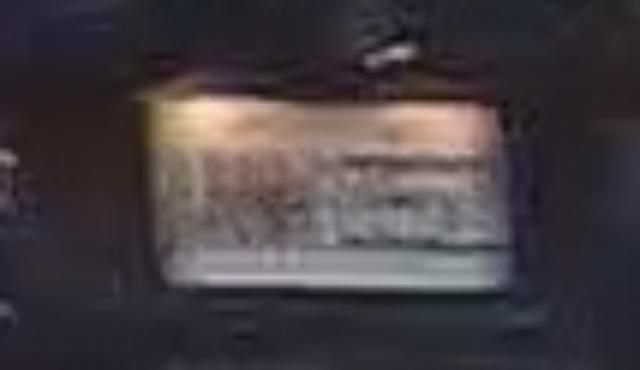plate: (133, 79, 537, 299)
